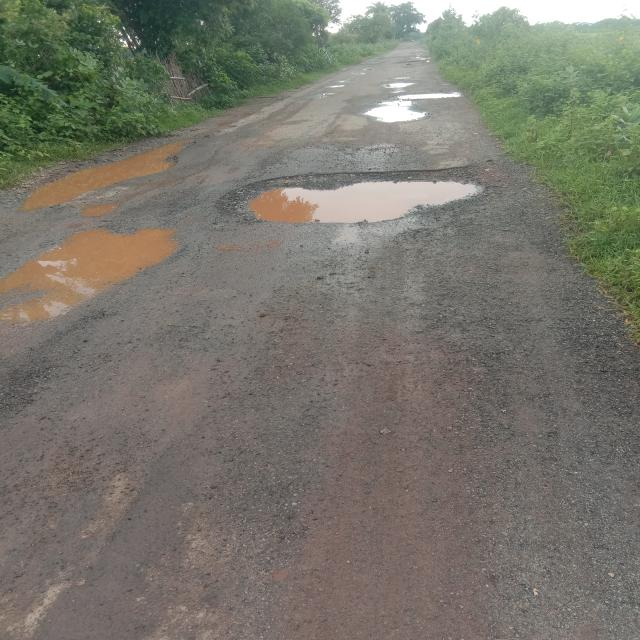potholes: (219, 160, 512, 231), (0, 223, 189, 329), (0, 132, 199, 212), (362, 75, 461, 125), (317, 75, 352, 98), (402, 52, 440, 67)
